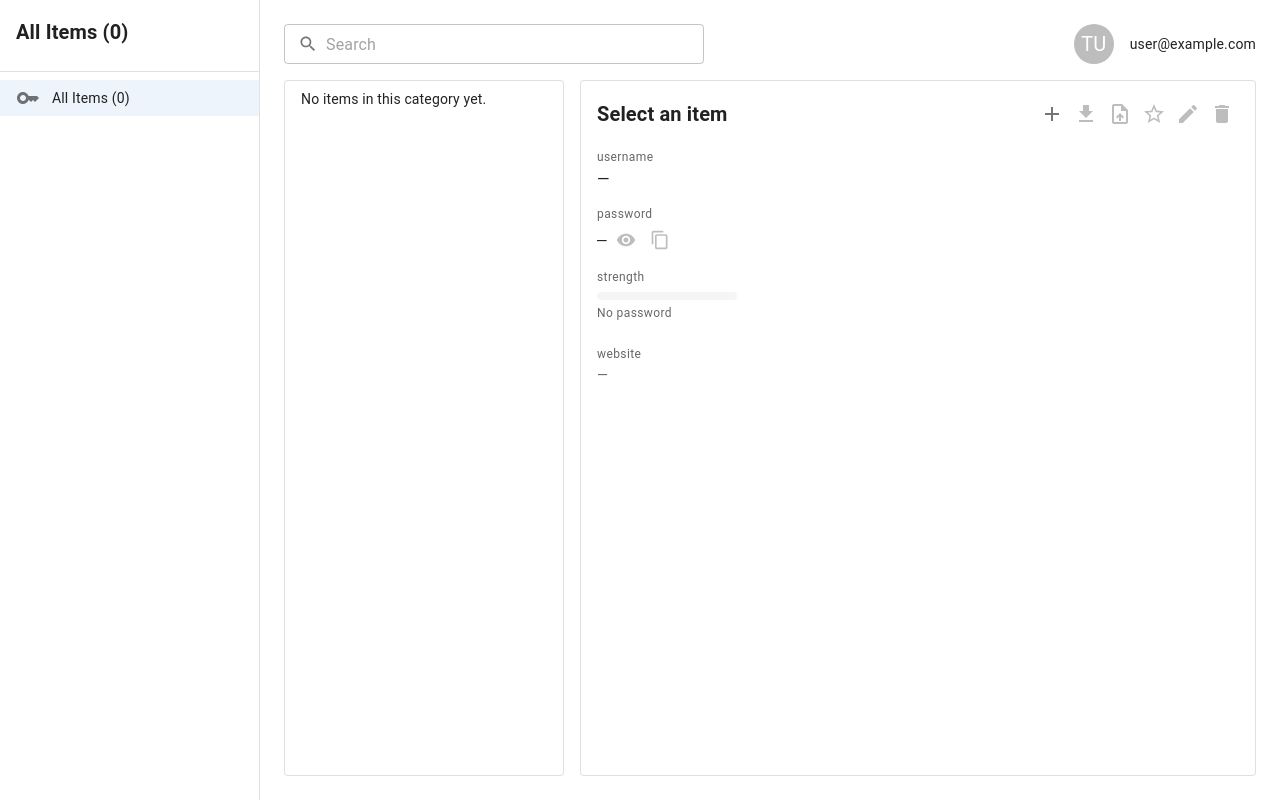
Dashboard › requests master password when adding a credential without a DEK and unlocks the vault
Click the button titled "Add item": (1052, 114) top-left (1035, 97), bottom-right (1069, 131)
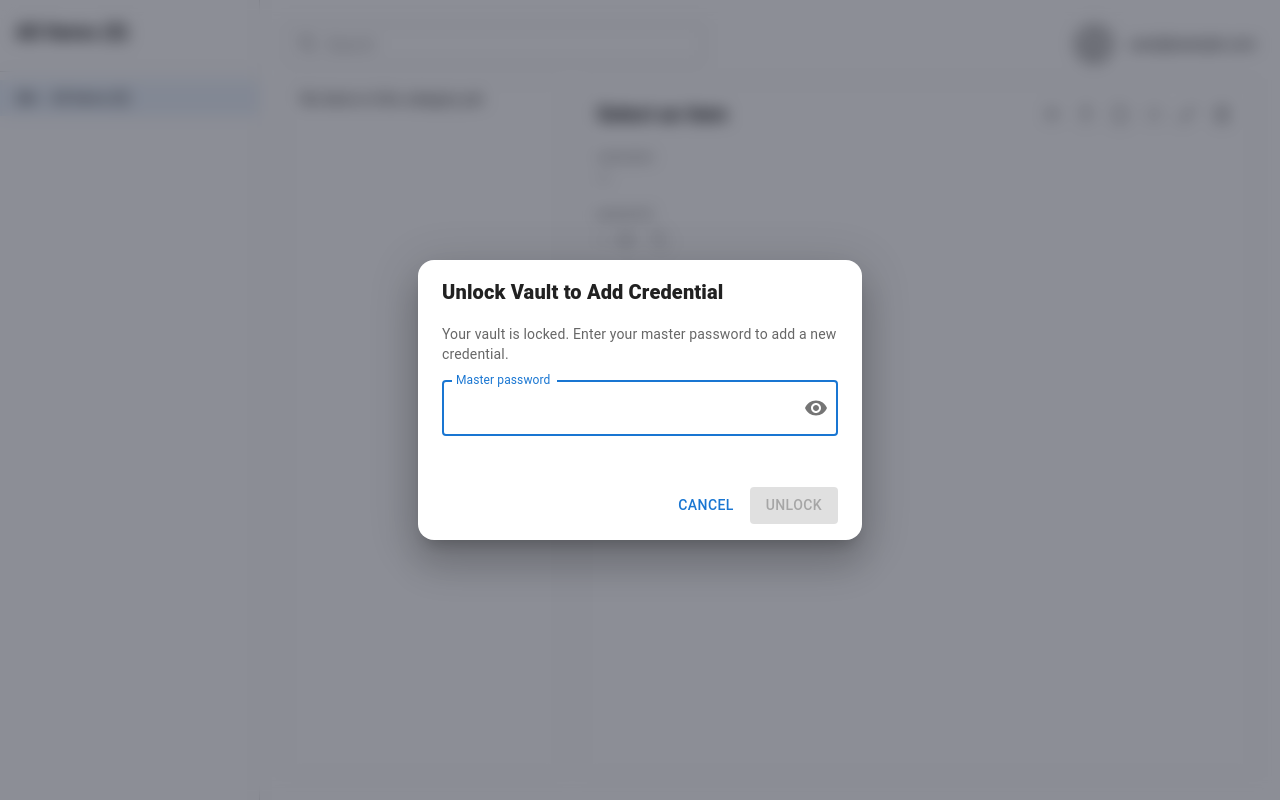
Check: the dialog "Unlock Vault to Add Credential" is shown, box top-left (418, 260), bottom-right (862, 540)
In the password field labelled "Master password": (615, 408) top-left (442, 380), bottom-right (788, 436), type "super-secret"
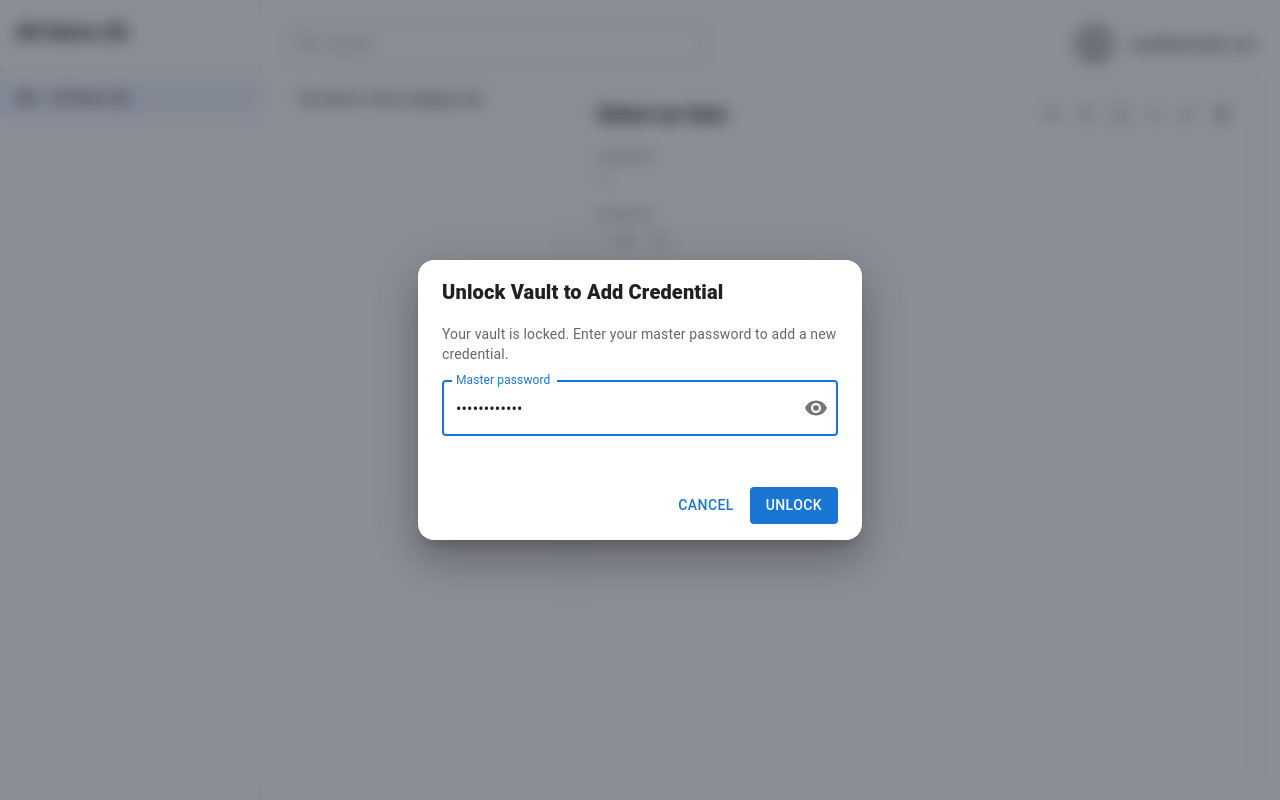
Click the button "Unlock": (794, 505) top-left (750, 487), bottom-right (838, 524)
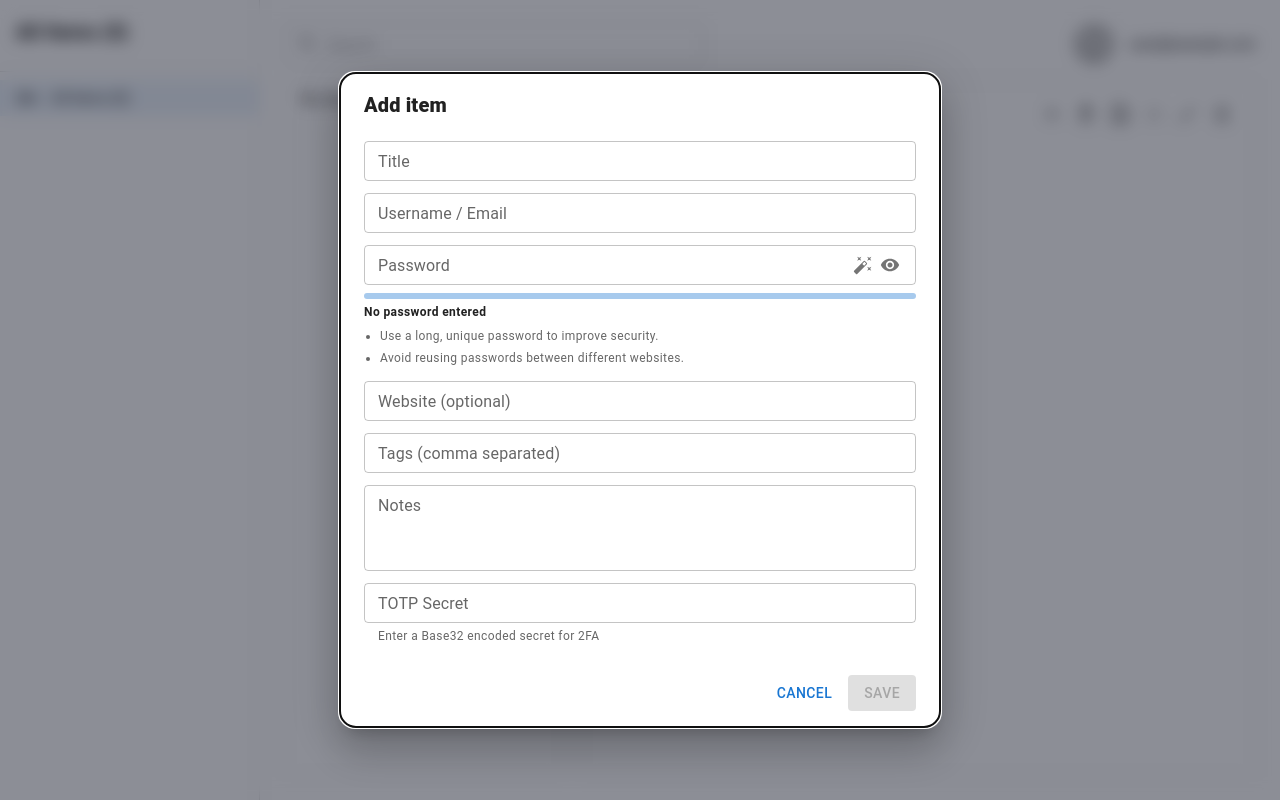
Check: the heading "Unlock Vault to Add Credential" is gone
Check: the dialog "Add item" is shown, box top-left (340, 73), bottom-right (940, 727)
